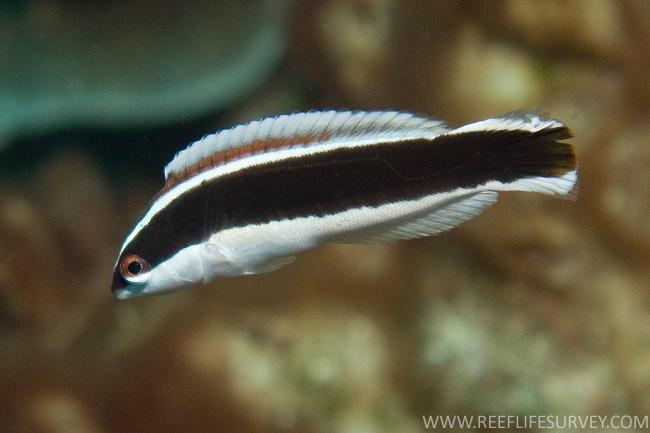fish: (111, 107, 579, 300)
